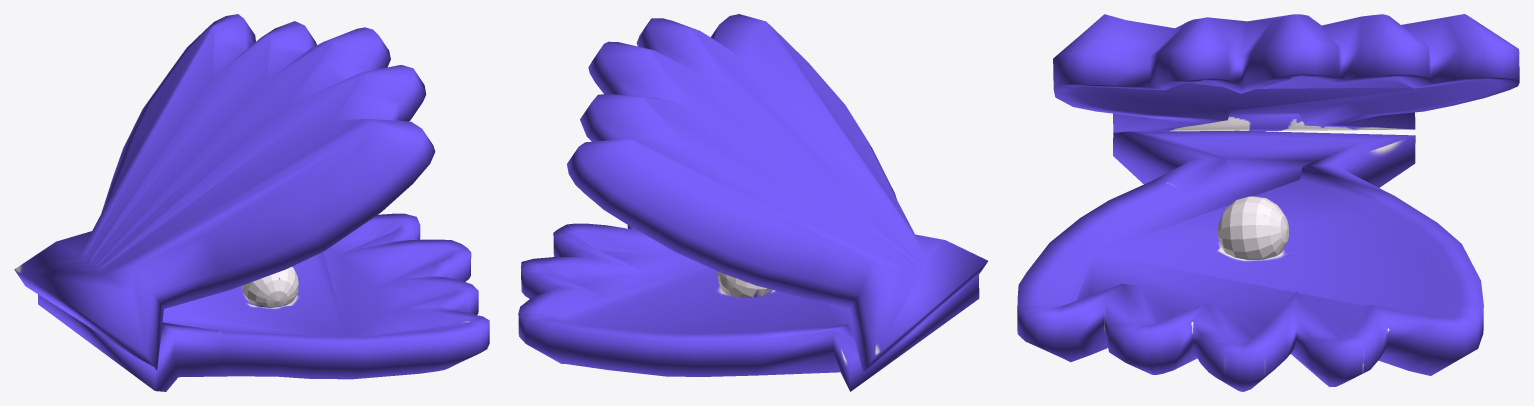
The model's file is CoquilleStJacques.fbx.
3 renders of one model, left to right at view 1: azimuth 30°, elevation 25°; view 2: azimuth 150°, elevation 25°; view 3: azimuth 270°, elevation 25°, orthographic. The views are drawn at different scales.
Visible parts, largest first — view 1: Circle.001, Sphere; view 2: Circle.001, Sphere; view 3: Sphere, Circle.001.
Boxes of the visible parts, x1,y1,x2,y2 form: Circle.001: [14, 14, 435, 370]; Sphere: [38, 213, 489, 391]; Circle.001: [567, 14, 987, 373]; Sphere: [518, 223, 979, 391]; Sphere: [1017, 130, 1483, 391]; Circle.001: [1053, 14, 1519, 132].
Bounding box in the file's own units: 419 × 289 × 385.
2 materials, 2 textured.
